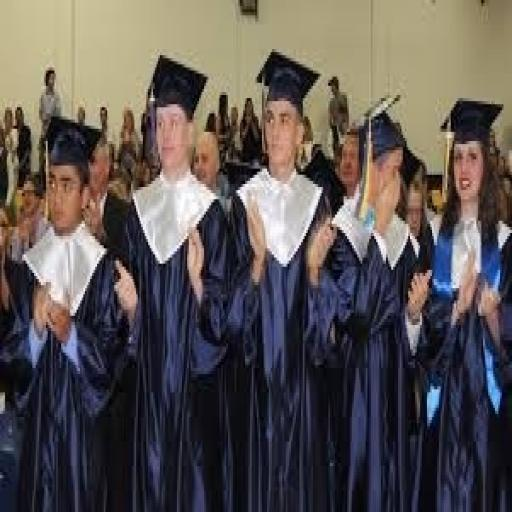clapping: (2, 52, 508, 506)
